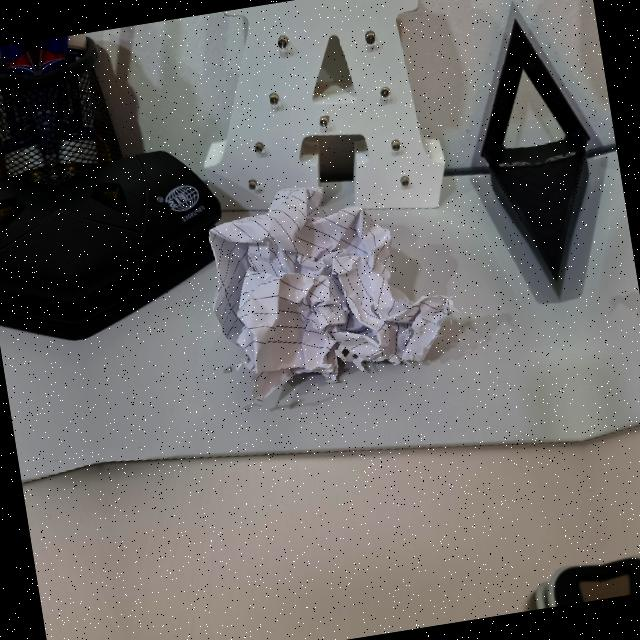paper: (201, 166, 444, 400)
